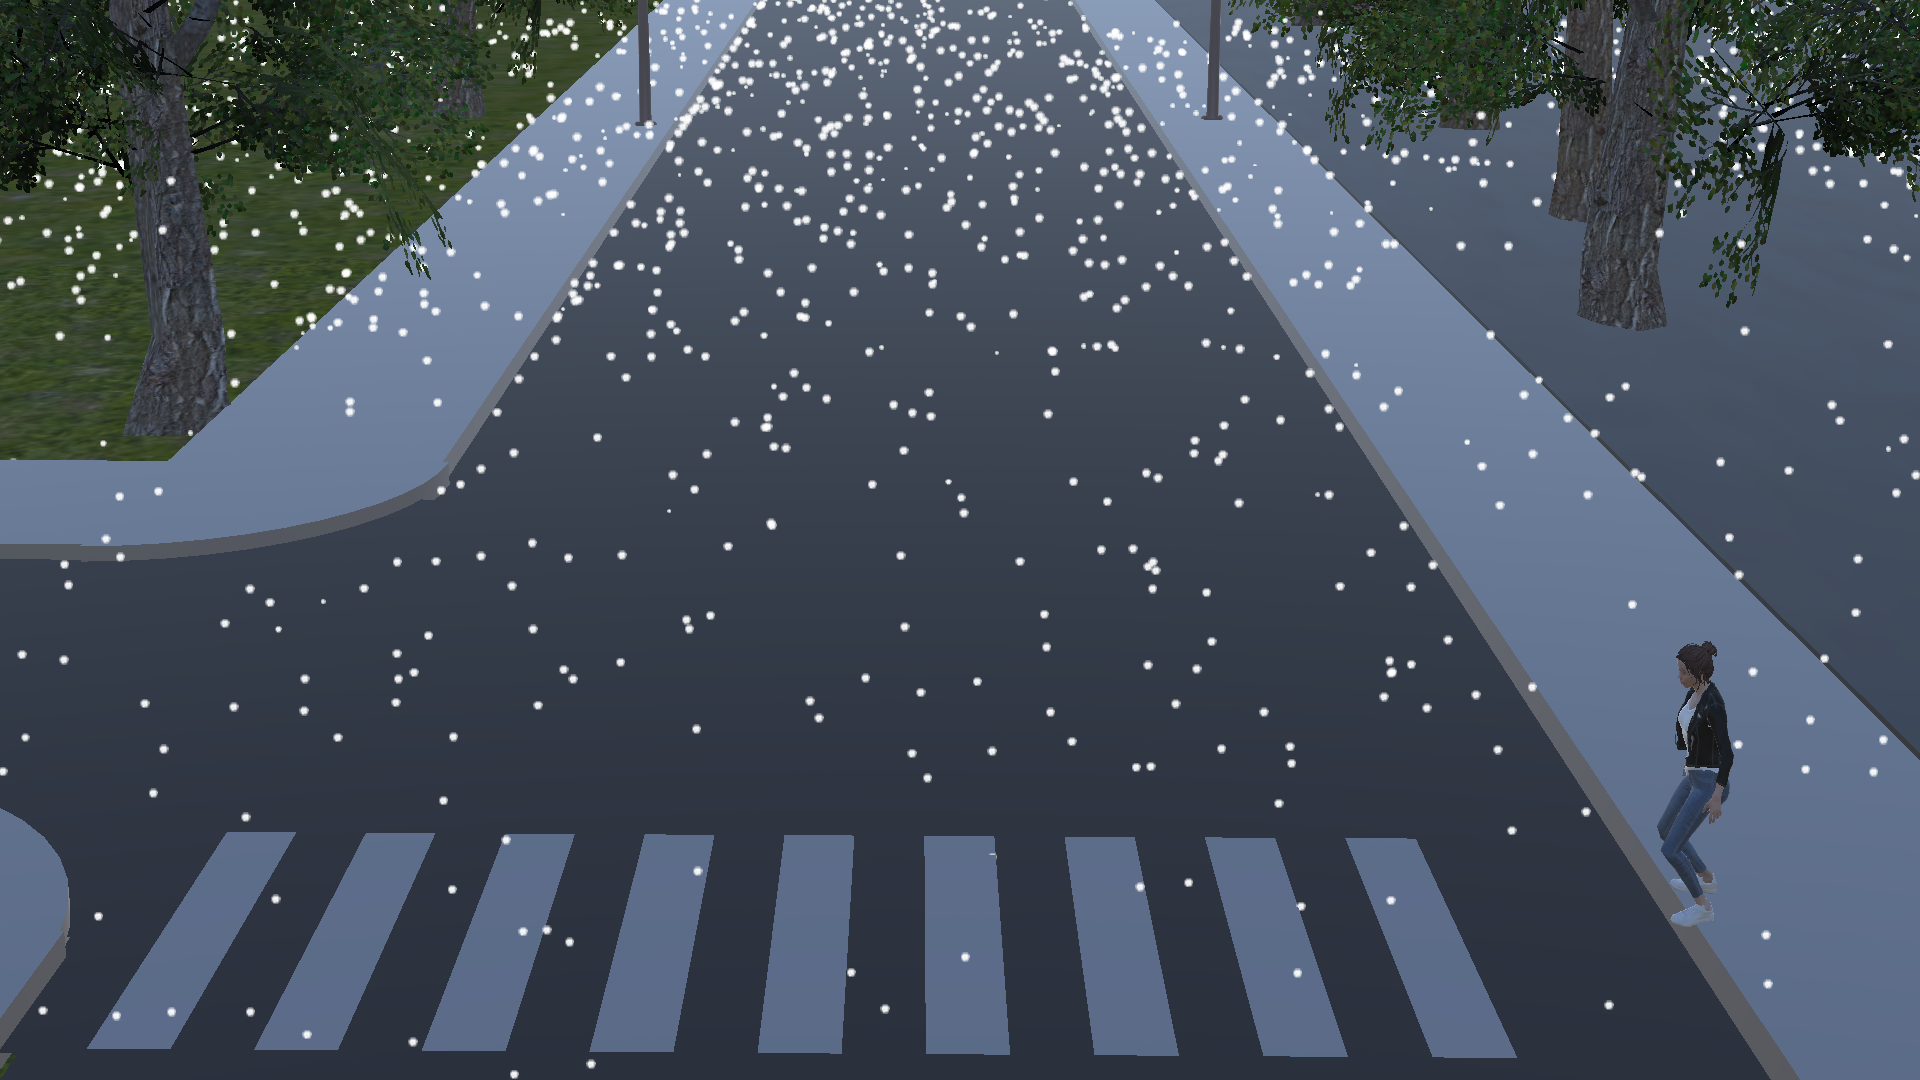pedestrian: (1626, 634, 1759, 939)
